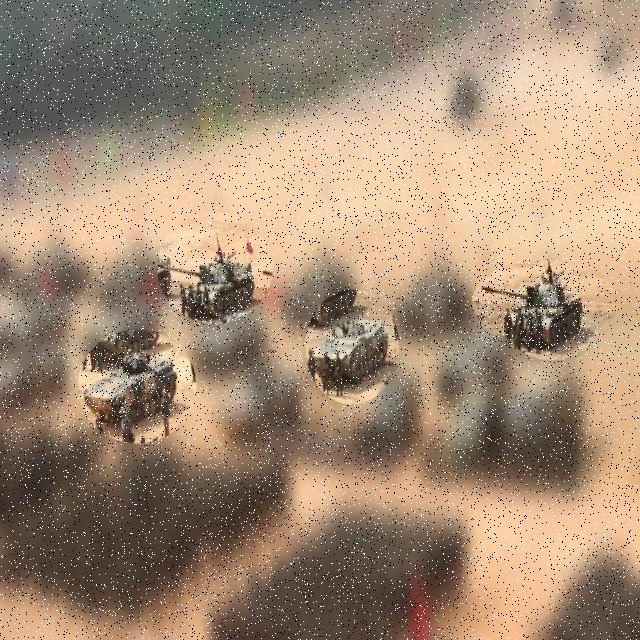MIL_MBT: (478, 260, 586, 350), (80, 351, 178, 430), (159, 251, 259, 325), (306, 311, 387, 390)
